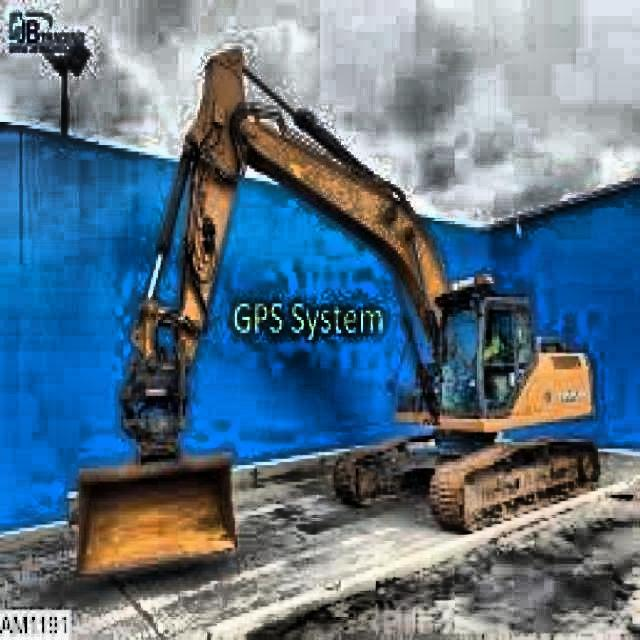bull_dozer/loader/grader: (70, 45, 602, 591)
person: (486, 322, 506, 365)
